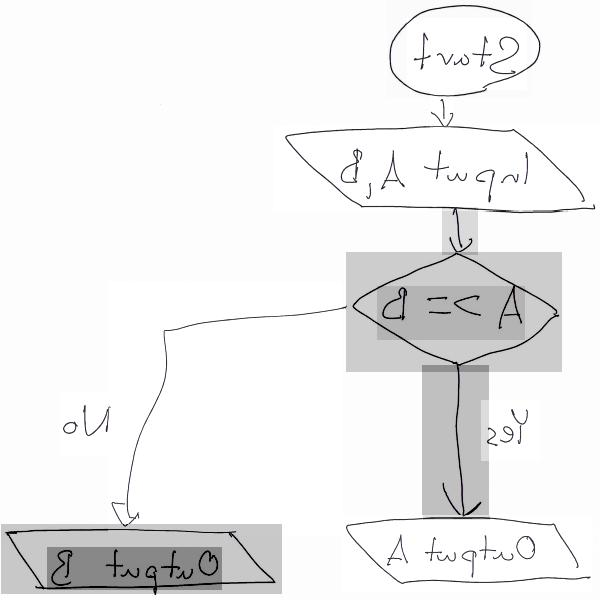arrow: (108, 282, 342, 535), (422, 366, 489, 521), (442, 208, 478, 256), (430, 87, 454, 132)
data: (274, 127, 600, 211), (1, 525, 282, 594), (342, 515, 592, 591)
decision: (346, 253, 562, 372)
terminator: (387, 0, 532, 98)
text: (337, 145, 533, 199), (407, 19, 527, 90), (380, 528, 538, 579), (377, 287, 525, 341), (47, 548, 222, 591), (481, 400, 540, 461), (60, 391, 113, 456)
